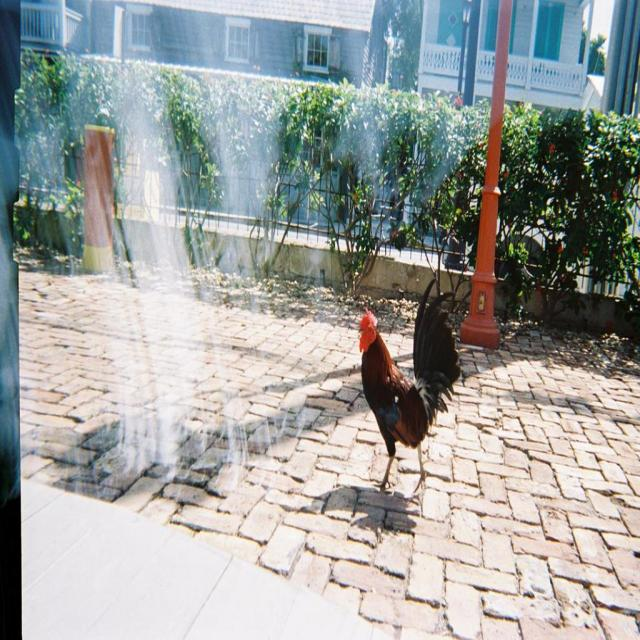Chicken: (359, 292, 466, 483)
